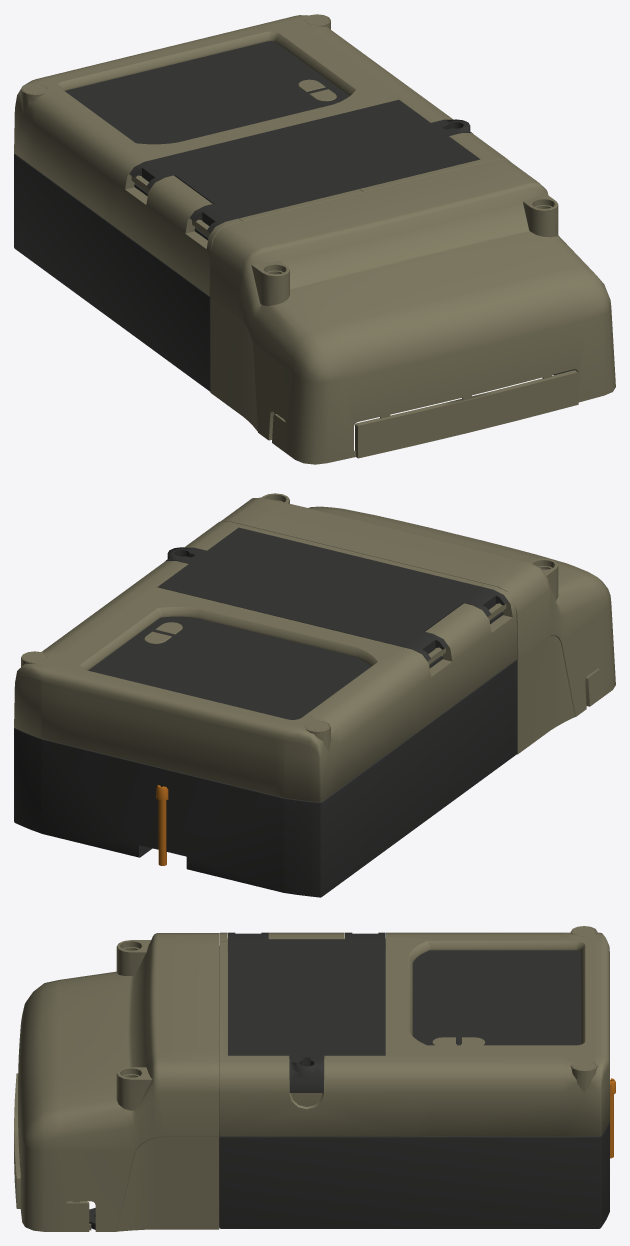
File: Model_EnergyMeter01.FBX
3 views of the same model, one above another, from view 1: azimuth 30°, elevation 25°; view 2: azimuth 150°, elevation 25°; view 3: azimuth 270°, elevation 25° (orthographic). The views are drawn at different scales.
Parts seen in each view (by area): view 1: Model_EnergyMeter01_ShellUp07, Model_EnergyMeter01_ShellUp01, Model_EnergyMeter01_ShellTransparent02, Model_EnergyMeter01_ShellDown01, Model_EnergyMeter01_ShellTransparent01, Model_EnergyMeter01_ShellUp08; view 2: Model_EnergyMeter01_ShellUp01, Model_EnergyMeter01_ShellDown01, Model_EnergyMeter01_ShellUp07, Model_EnergyMeter01_ShellTransparent02, Model_EnergyMeter01_ShellTransparent01, Model_EnergyMeter01_Screw, Model_EnergyMeter01_ShellUp09; view 3: Model_EnergyMeter01_ShellUp07, Model_EnergyMeter01_ShellUp01, Model_EnergyMeter01_ShellDown01, Model_EnergyMeter01_ShellTransparent02, Model_EnergyMeter01_ShellTransparent01, Model_EnergyMeter01_ShellUp10, Model_EnergyMeter01_ShellUp08, Model_EnergyMeter01_ShellUp02.
Part boxes in pixels (x1,y1,x2,y2): Model_EnergyMeter01_ShellUp07: (209, 159, 615, 464); Model_EnergyMeter01_ShellUp01: (14, 14, 509, 295); Model_EnergyMeter01_ShellTransparent02: (129, 99, 480, 240); Model_EnergyMeter01_ShellDown01: (14, 153, 575, 414); Model_EnergyMeter01_ShellTransparent01: (65, 41, 349, 144); Model_EnergyMeter01_ShellUp08: (354, 370, 578, 458); Model_EnergyMeter01_ShellUp01: (14, 521, 517, 802); Model_EnergyMeter01_ShellDown01: (14, 659, 517, 897); Model_EnergyMeter01_ShellUp07: (220, 493, 615, 754); Model_EnergyMeter01_ShellTransparent02: (157, 527, 508, 668); Model_EnergyMeter01_ShellTransparent01: (88, 616, 370, 719); Model_EnergyMeter01_Screw: (156, 785, 168, 865); Model_EnergyMeter01_ShellUp09: (585, 668, 602, 706); Model_EnergyMeter01_ShellUp07: (18, 933, 219, 1231); Model_EnergyMeter01_ShellUp01: (219, 926, 609, 1136); Model_EnergyMeter01_ShellDown01: (89, 1121, 609, 1229); Model_EnergyMeter01_ShellTransparent02: (228, 932, 385, 1092); Model_EnergyMeter01_ShellTransparent01: (412, 950, 580, 1045); Model_EnergyMeter01_ShellUp10: (64, 1201, 91, 1231); Model_EnergyMeter01_ShellUp08: (14, 1073, 20, 1208); Model_EnergyMeter01_ShellUp02: (219, 941, 227, 1010).
Bounding box in the file's own units: 173 × 293 × 87.11.
